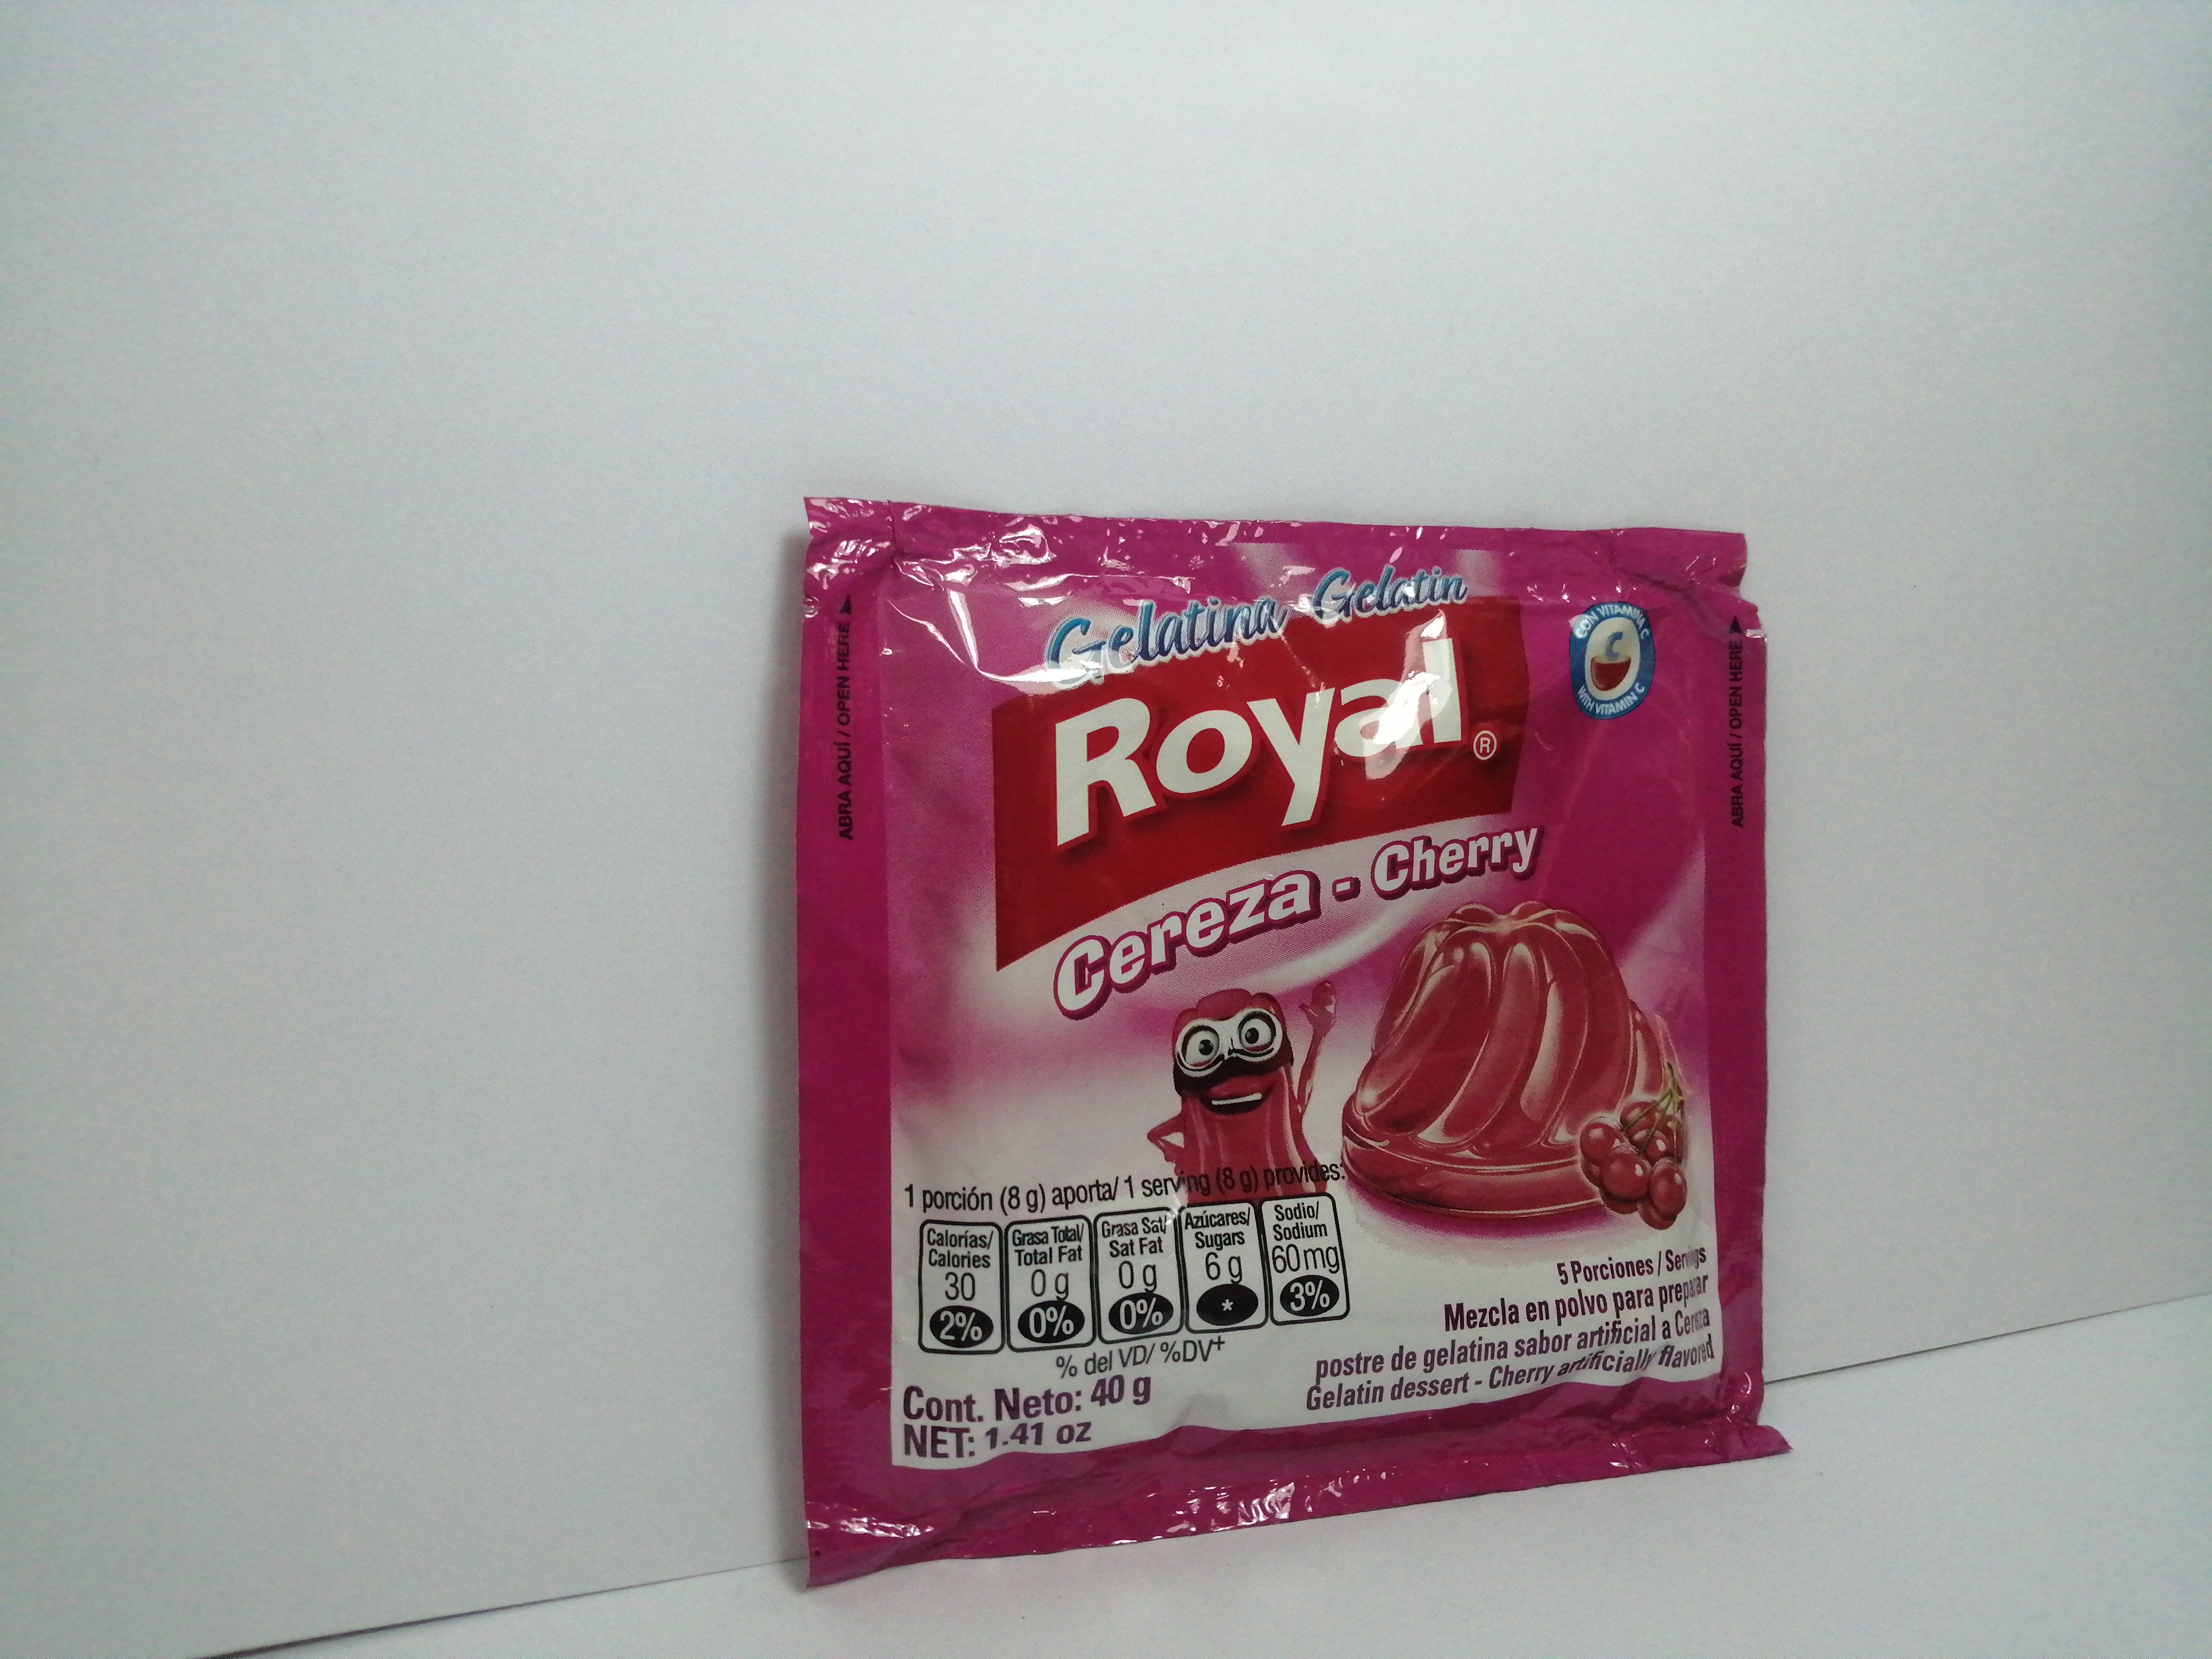gelatina: (794, 481, 1791, 1579)
